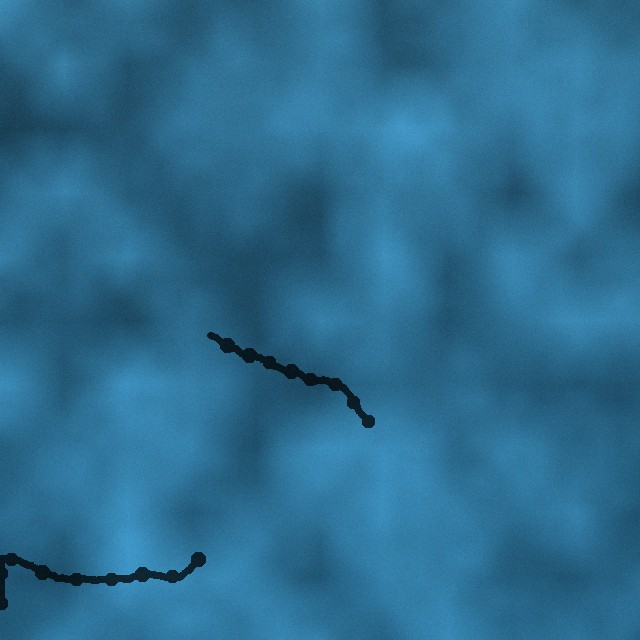crack: (202, 327, 375, 428), (0, 551, 205, 610)
